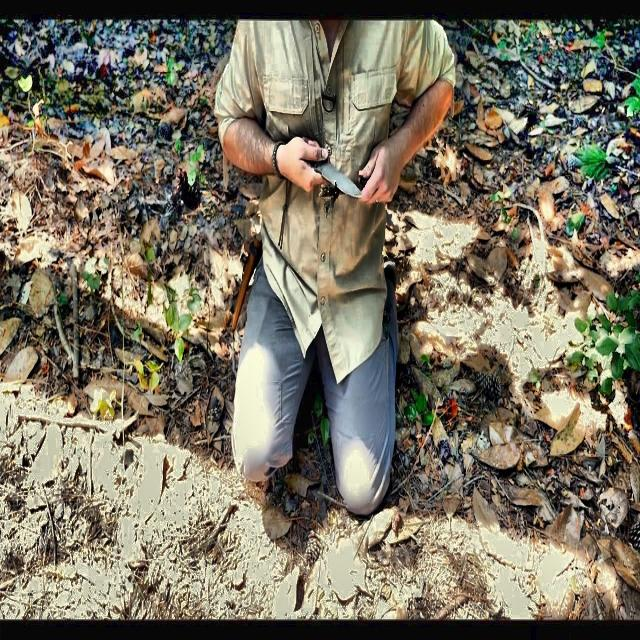knife: (311, 160, 364, 200)
